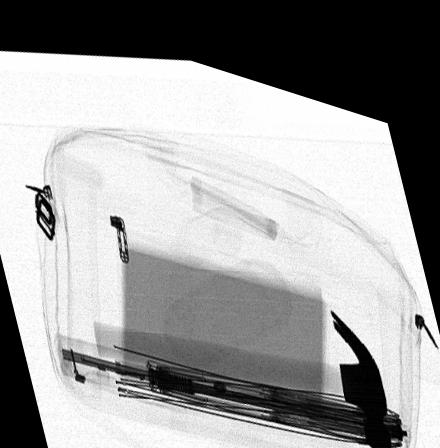Hammer: (93, 288, 393, 429)
